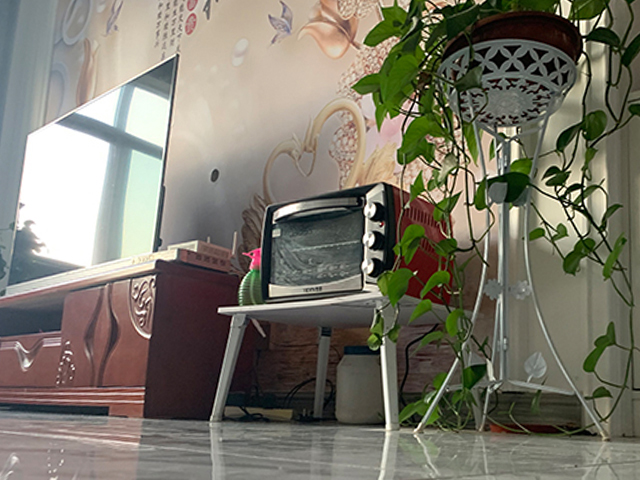cabinet: (1, 260, 259, 420)
table: (208, 289, 487, 433)
